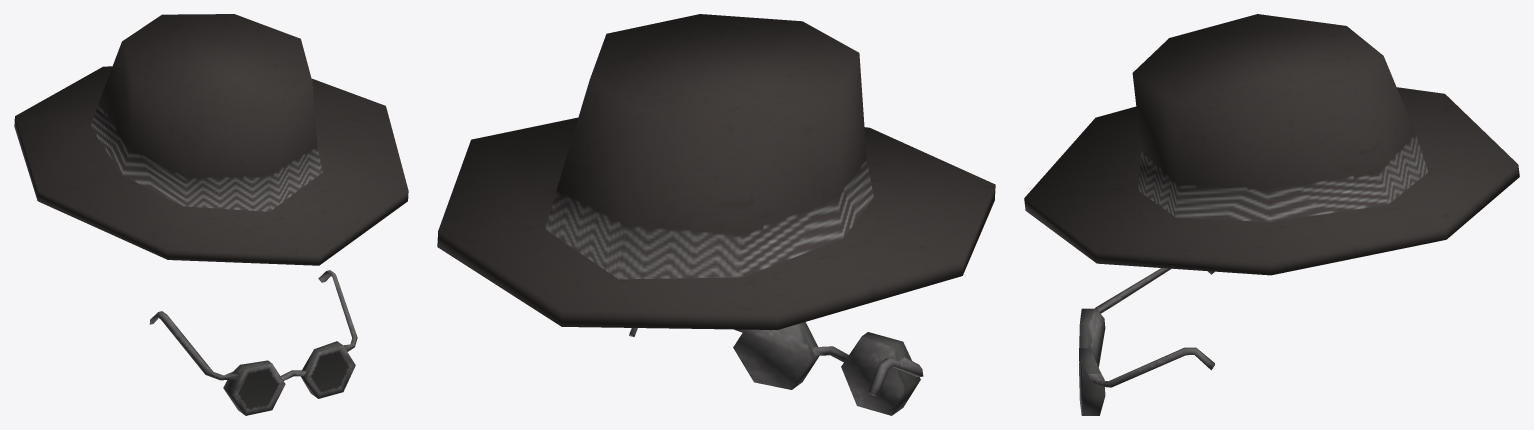
Rendered from light_helmet.glb.
The picture shows the model from 3 angles, left to right: view 1: azimuth 30°, elevation 25°; view 2: azimuth 150°, elevation 25°; view 3: azimuth 270°, elevation 25°; orthographic projection. The views are drawn at different scales.
Visible parts, largest first — view 1: light helmet shrek female; view 2: light helmet shrek female; view 3: light helmet shrek female.
Boxes of the visible parts, left/top/right/bottom form: light helmet shrek female: left=14, top=14, right=408, bottom=415; light helmet shrek female: left=437, top=14, right=995, bottom=415; light helmet shrek female: left=1024, top=14, right=1519, bottom=415.
Bounding box in the file's own units: 0.4586 × 0.3685 × 0.4971.
Materials: 1 (1 with a texture image).
